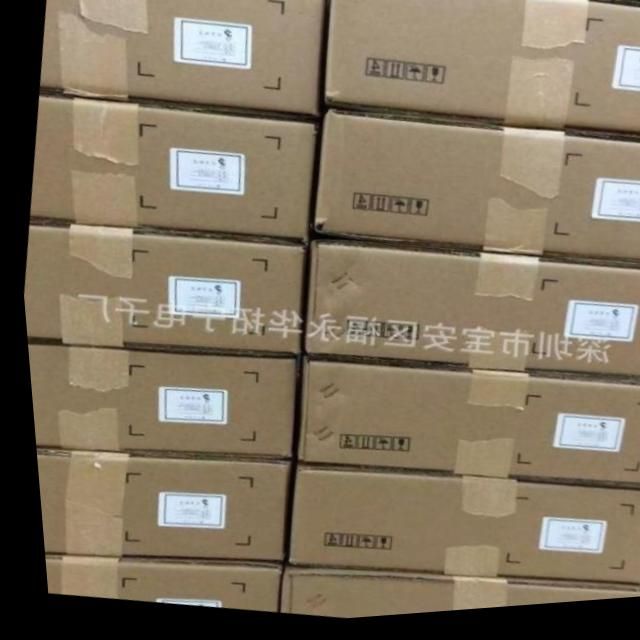box: (310, 113, 640, 270), (294, 245, 640, 387), (281, 358, 640, 493), (273, 466, 640, 596), (321, 0, 640, 144), (26, 96, 318, 246), (20, 220, 303, 359), (39, 0, 327, 124), (22, 336, 294, 462), (29, 446, 283, 568), (271, 569, 635, 623), (35, 552, 272, 616)
